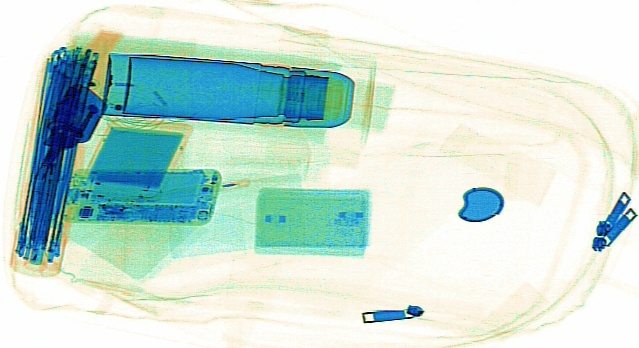lighter: (48, 80, 108, 145)
